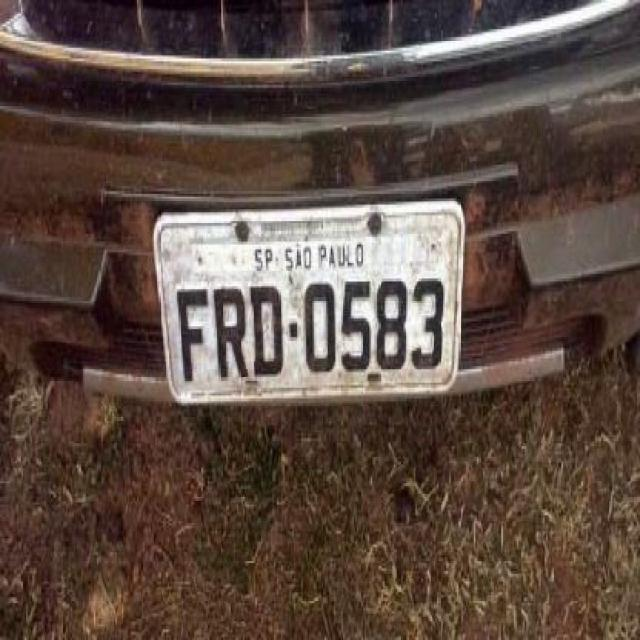old_plate: (148, 190, 472, 415)
